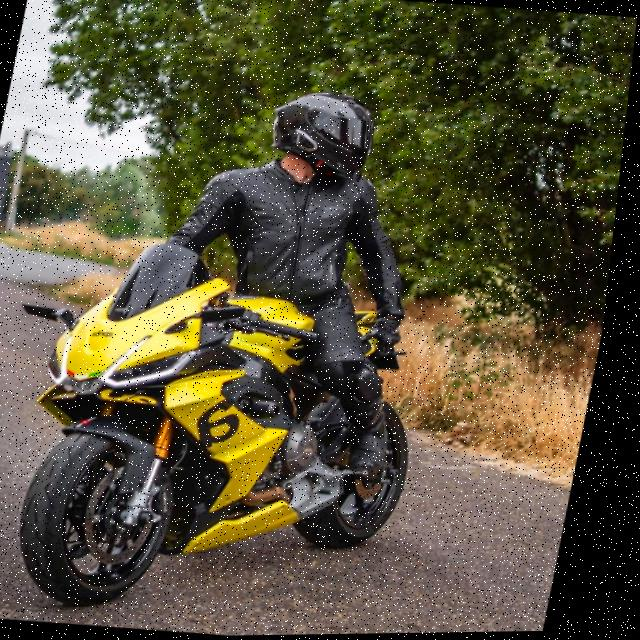helmet: (259, 85, 388, 186)
